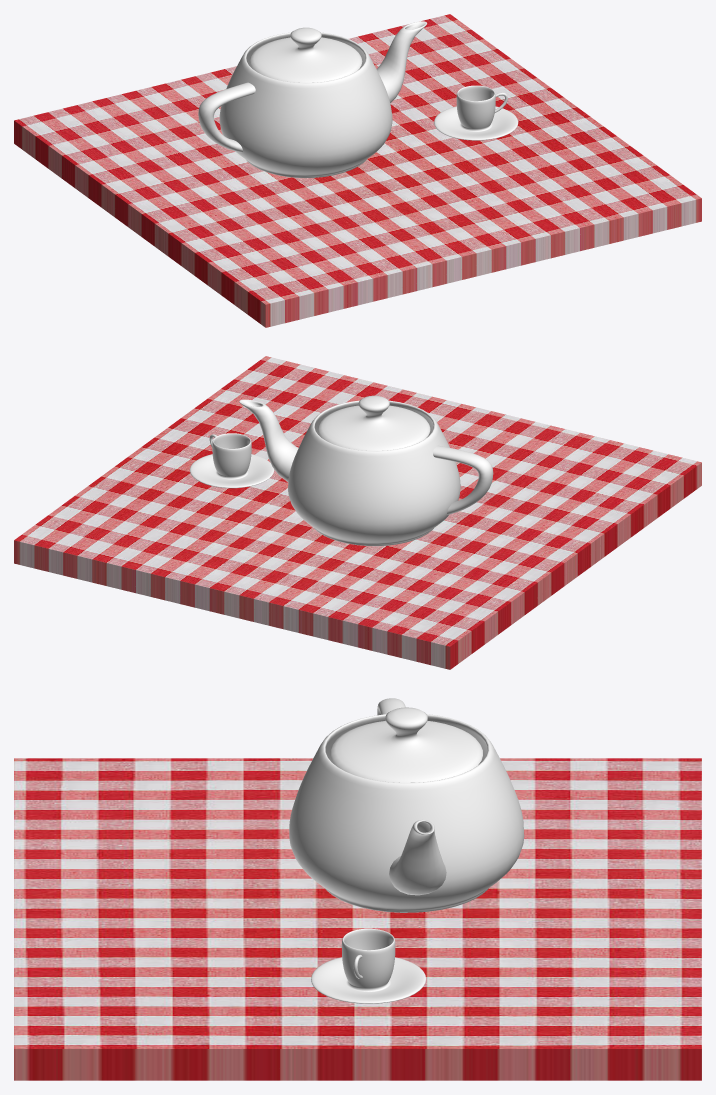
Rendered from teapot_SceneTest.obj.
The picture shows the model from 3 angles, top to bottom: view 1: azimuth 30°, elevation 25°; view 2: azimuth 150°, elevation 25°; view 3: azimuth 270°, elevation 25°; orthographic projection. The views are drawn at different scales.
Visible parts, largest first — view 1: Plane, teapot, teacup; view 2: Plane, teapot, teacup; view 3: Plane, teapot, teacup.
Boxes of the visible parts, x1,y1,x2,y2 form: Plane: (14, 14, 701, 327); teapot: (198, 21, 427, 178); teacup: (434, 85, 518, 140); Plane: (14, 356, 701, 669); teapot: (239, 395, 493, 546); teacup: (189, 433, 274, 488); Plane: (14, 758, 701, 1080); teapot: (289, 698, 524, 912); teacup: (311, 928, 426, 1003).
Bounding box in the file's own units: 11.68 × 3.73 × 11.68.
